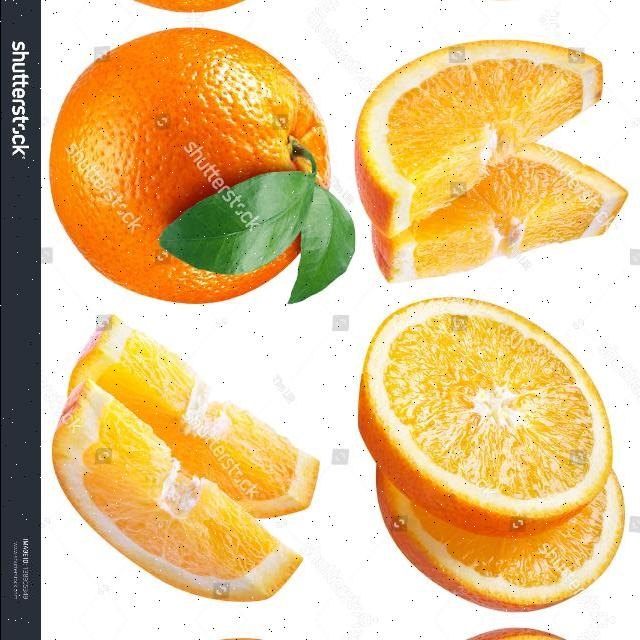Orange: (49, 26, 331, 304), (357, 295, 614, 537), (51, 378, 304, 602), (66, 314, 321, 518), (354, 38, 605, 238), (375, 461, 626, 612), (58, 0, 315, 12)
